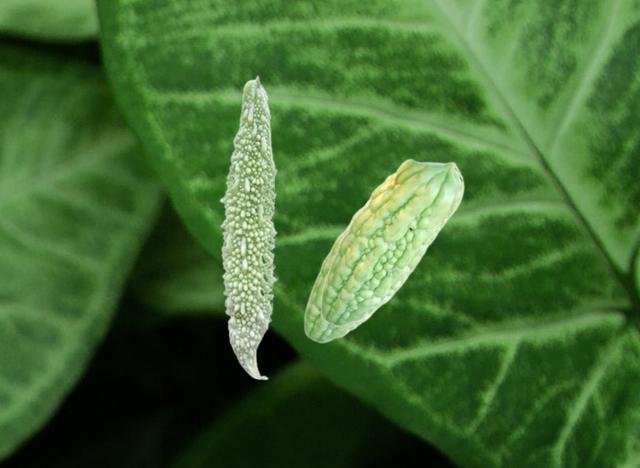ampalaya: (320, 158, 466, 329), (219, 74, 280, 382), (303, 200, 374, 344)
